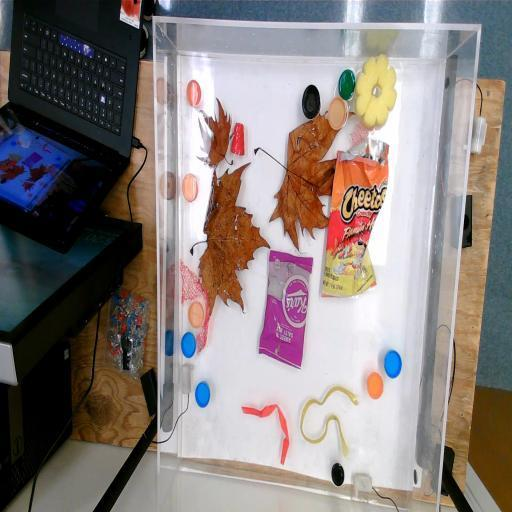Bottle Cap: (302, 83, 321, 119), (328, 96, 347, 130), (338, 68, 356, 101), (384, 348, 402, 379), (182, 172, 199, 204), (194, 380, 212, 410), (188, 300, 205, 330), (366, 372, 384, 400), (180, 331, 197, 360), (186, 78, 202, 108), (330, 462, 346, 486)
Cone Cap: (230, 121, 246, 155)
Leaf: (253, 109, 357, 255), (190, 162, 270, 314), (195, 96, 234, 169)
Netting: (180, 256, 210, 356), (349, 118, 377, 146)
Plastic Bag: (320, 139, 390, 299), (258, 250, 314, 371)
Plastic Strand: (300, 386, 360, 458), (241, 402, 290, 466)
Sponge: (355, 53, 399, 128)
